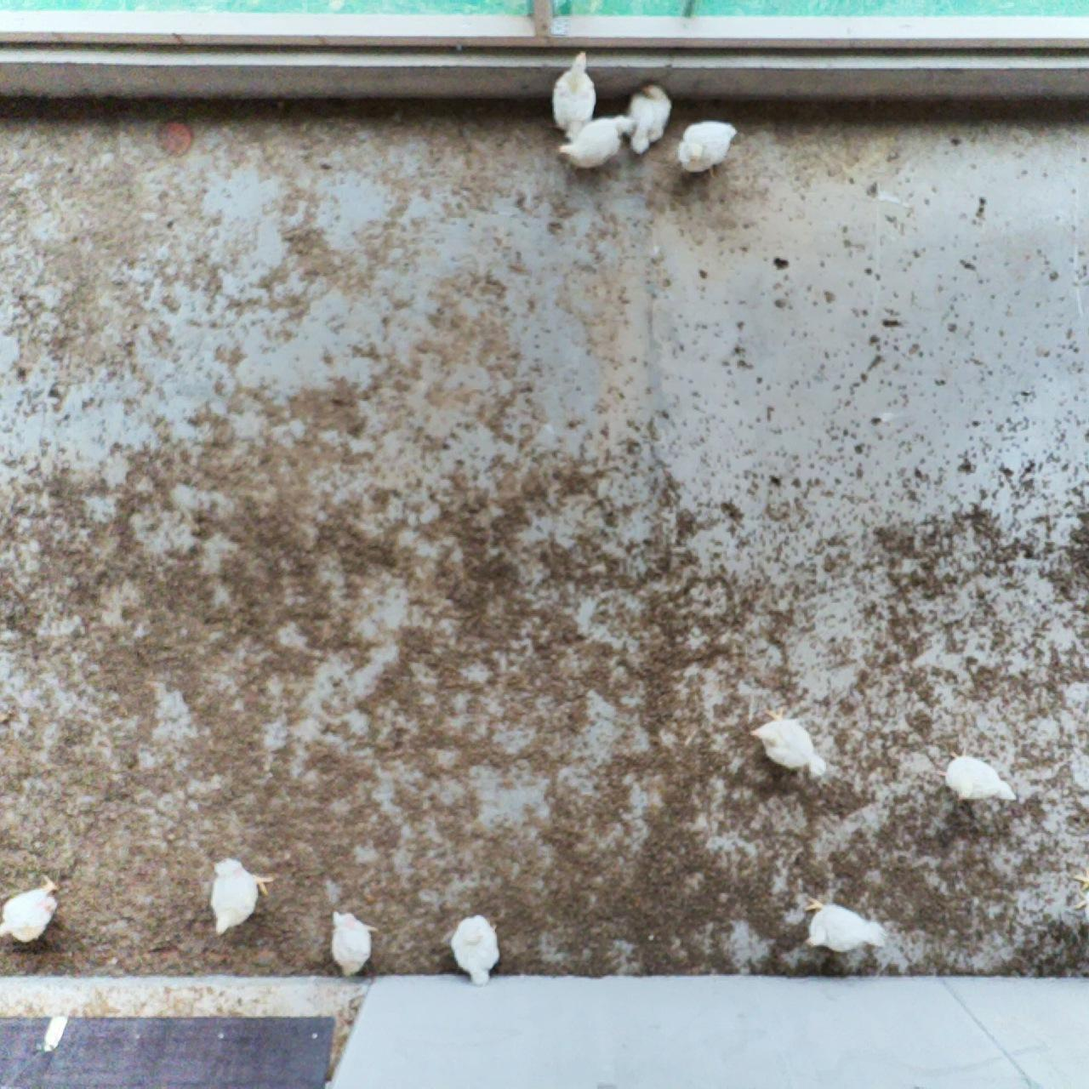chicken: (748, 702, 830, 779), (209, 854, 274, 936), (446, 910, 515, 986), (556, 109, 644, 168), (800, 894, 891, 951), (941, 751, 1026, 810), (553, 44, 601, 145), (0, 874, 62, 949), (324, 907, 388, 979), (675, 114, 740, 176), (630, 76, 676, 154)
